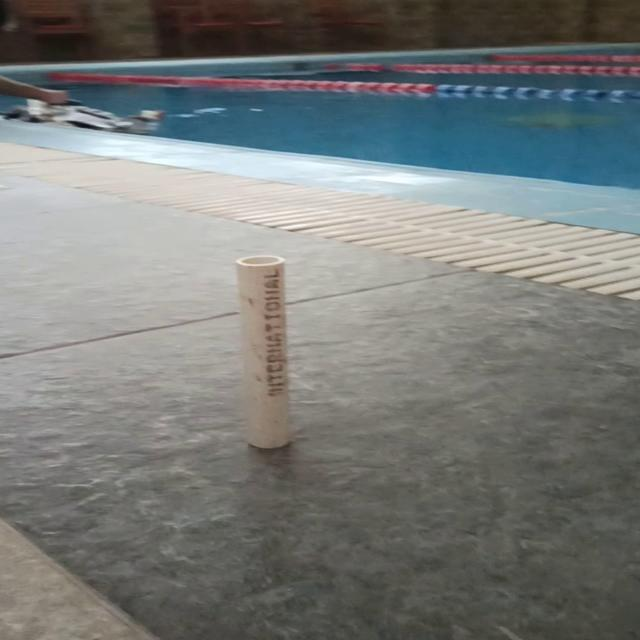Cube: (232, 253, 292, 449)
